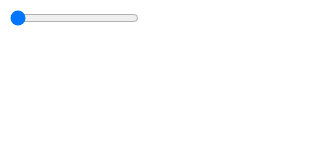
Slider › uncontrolled keeps the value and reports (event, value); steps and clamping apply
The width and height of the screenshot is (320, 160).
Step 1. Set the slider to "47" → (71, 18), box [10, 10, 139, 26]
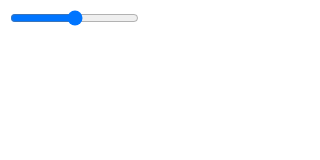
Expected: the slider holds "50", [10, 10, 139, 26]
